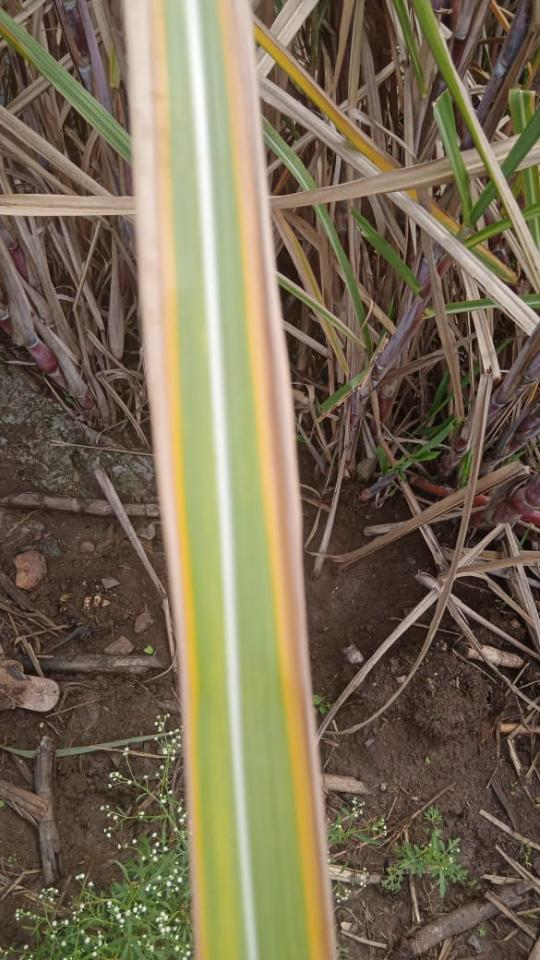Yellow: (212, 0, 331, 959), (145, 0, 215, 959)
